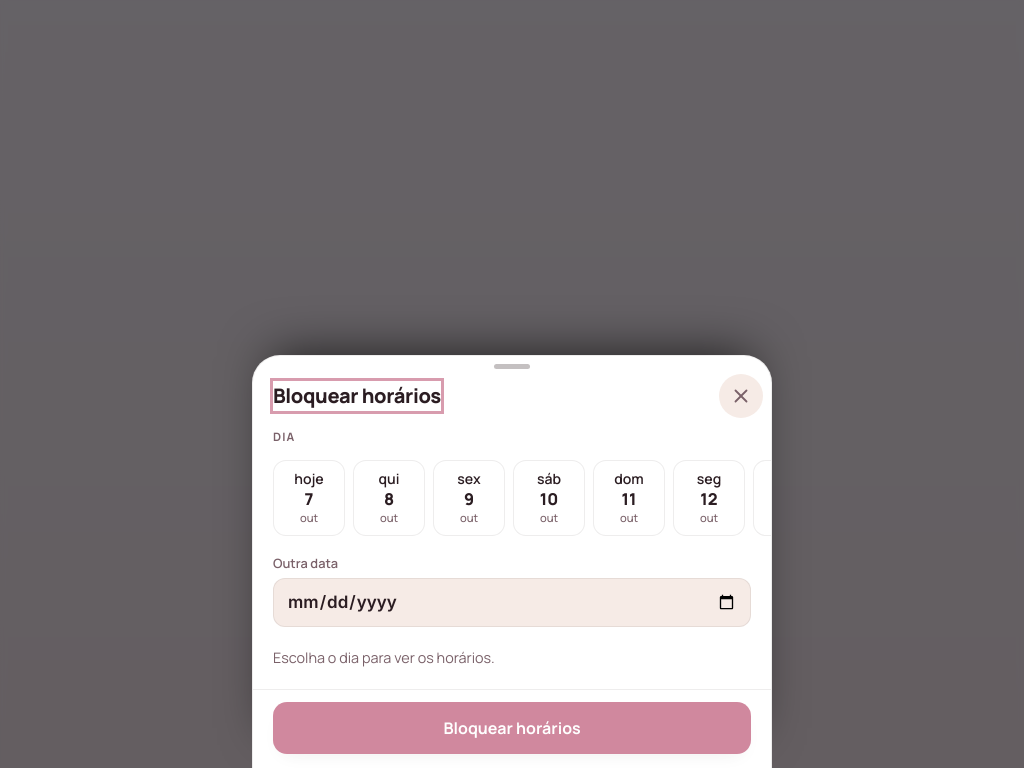
Scenario: Bloquear horários: escolher o dia › tocar num dia da fileira mostra os horários dele
Click the button "dom 11 out". click: [629, 498]
box: [593,460,665,536]
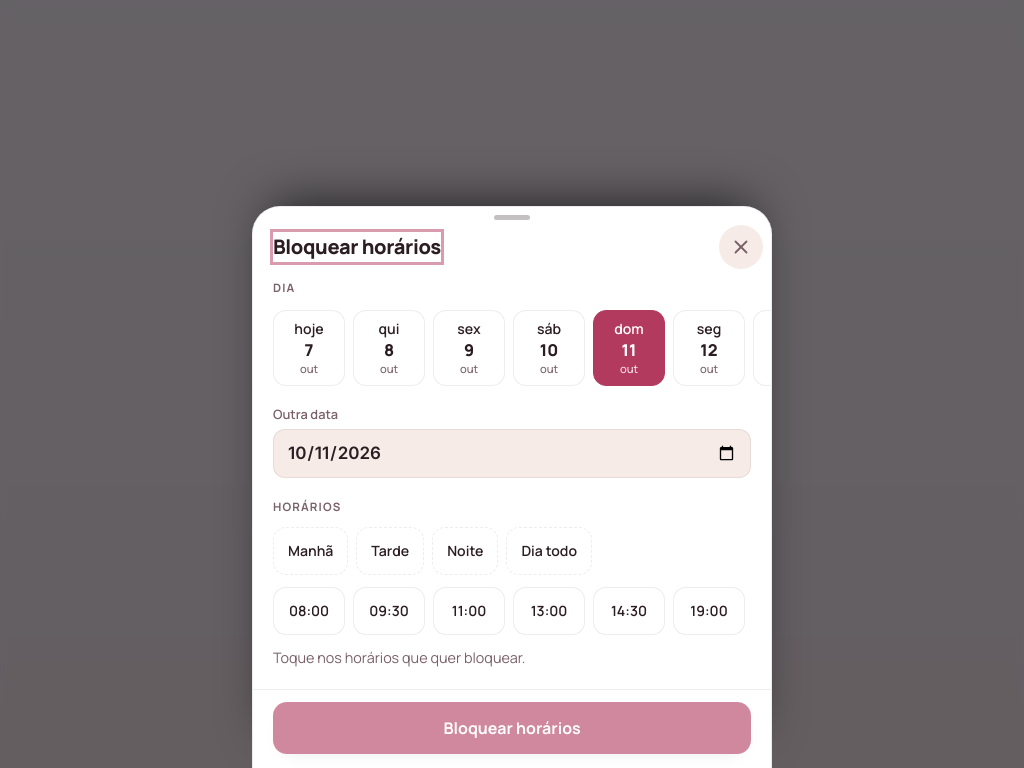
Check: the button "09:30" is shown, box [353,587,425,635]
